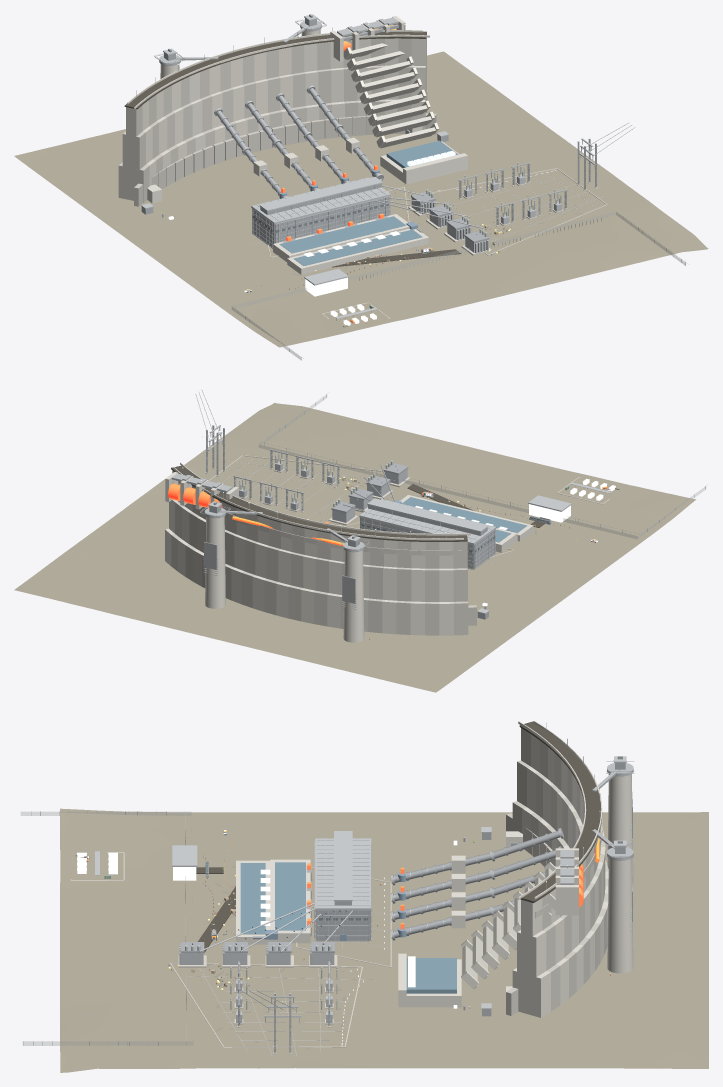
The model's file is hydropower.glb.
3 views of the same model, one above another, from view 1: azimuth 30°, elevation 25°; view 2: azimuth 150°, elevation 25°; view 3: azimuth 270°, elevation 25° (orthographic). The views are drawn at different scales.
Visible parts, largest first — view 1: structure/mat_8b8166_37, fleet/mat_c9c3b4_0, fleet/mat_efe8d4_1, galv/galv, structure/mat_efe8d4_1, structure/roof, structure/clad, structure/mat_4b738a_3, structure/steel2, fleet/road, structure/steelD, structure/seam (+7 smaller); view 2: structure/mat_8b8166_37, fleet/mat_efe8d4_1, fleet/mat_c9c3b4_0, structure/mat_efe8d4_1, structure/roof, galv/galv, structure/clad, fleet/road, structure/steelD, fence/mesh, structure/gray, structure/mat_4b738a_3 (+6 smaller); view 3: structure/mat_8b8166_37, fleet/mat_efe8d4_1, fleet/mat_c9c3b4_0, structure/mat_efe8d4_1, structure/roof, structure/mat_4b738a_3, galv/galv, structure/steel2, fleet/road, structure/seam, structure/steelD, structure/concrete (+6 smaller).
Part boxes in pixels (x1=…): structure/mat_8b8166_37: x1=14, y1=51, x2=708, y2=347; fleet/mat_c9c3b4_0: x1=118, y1=38, x2=436, y2=206; fleet/mat_efe8d4_1: x1=127, y1=15, x2=467, y2=185; galv/galv: x1=136, y1=18, x2=596, y2=320; structure/mat_efe8d4_1: x1=147, y1=29, x2=428, y2=274; structure/roof: x1=141, y1=14, x2=449, y2=318; structure/clad: x1=141, y1=18, x2=448, y2=247; structure/mat_4b738a_3: x1=279, y1=216, x2=422, y2=265; structure/steel2: x1=216, y1=88, x2=423, y2=232; fleet/road: x1=124, y1=31, x2=426, y2=109; structure/steelD: x1=168, y1=14, x2=635, y2=243; structure/seam: x1=252, y1=172, x2=602, y2=247; structure/mat_8b8166_37: x1=14, y1=403, x2=695, y2=692; fleet/mat_efe8d4_1: x1=165, y1=462, x2=470, y2=635; fleet/mat_c9c3b4_0: x1=171, y1=481, x2=476, y2=635; structure/mat_efe8d4_1: x1=205, y1=495, x2=533, y2=642; structure/roof: x1=208, y1=482, x2=610, y2=614; galv/galv: x1=182, y1=425, x2=610, y2=609; structure/clad: x1=209, y1=505, x2=495, y2=619; fleet/road: x1=171, y1=465, x2=467, y2=541; structure/steelD: x1=195, y1=389, x2=408, y2=603; fence/mesh: x1=258, y1=395, x2=705, y2=539; structure/gray: x1=239, y1=462, x2=546, y2=523; structure/mat_4b738a_3: x1=401, y1=497, x2=527, y2=542; structure/mat_8b8166_37: x1=60, y1=808, x2=708, y2=1072; fleet/mat_efe8d4_1: x1=398, y1=721, x2=608, y2=1017; fleet/mat_c9c3b4_0: x1=462, y1=728, x2=608, y2=1015; structure/mat_efe8d4_1: x1=236, y1=774, x2=633, y2=991; structure/roof: x1=95, y1=756, x2=626, y2=1009; structure/mat_4b738a_3: x1=240, y1=862, x2=305, y2=934; galv/galv: x1=97, y1=722, x2=634, y2=1053; structure/steel2: x1=253, y1=823, x2=632, y2=939; fleet/road: x1=519, y1=721, x2=601, y2=902; structure/seam: x1=189, y1=838, x2=390, y2=1055; structure/steelD: x1=181, y1=756, x2=632, y2=1012; structure/concrete: x1=70, y1=852, x2=391, y2=1054.
Size of the model in its own units: 390 by 93.14 by 447.
Materials: 41 (3 with a texture image).
